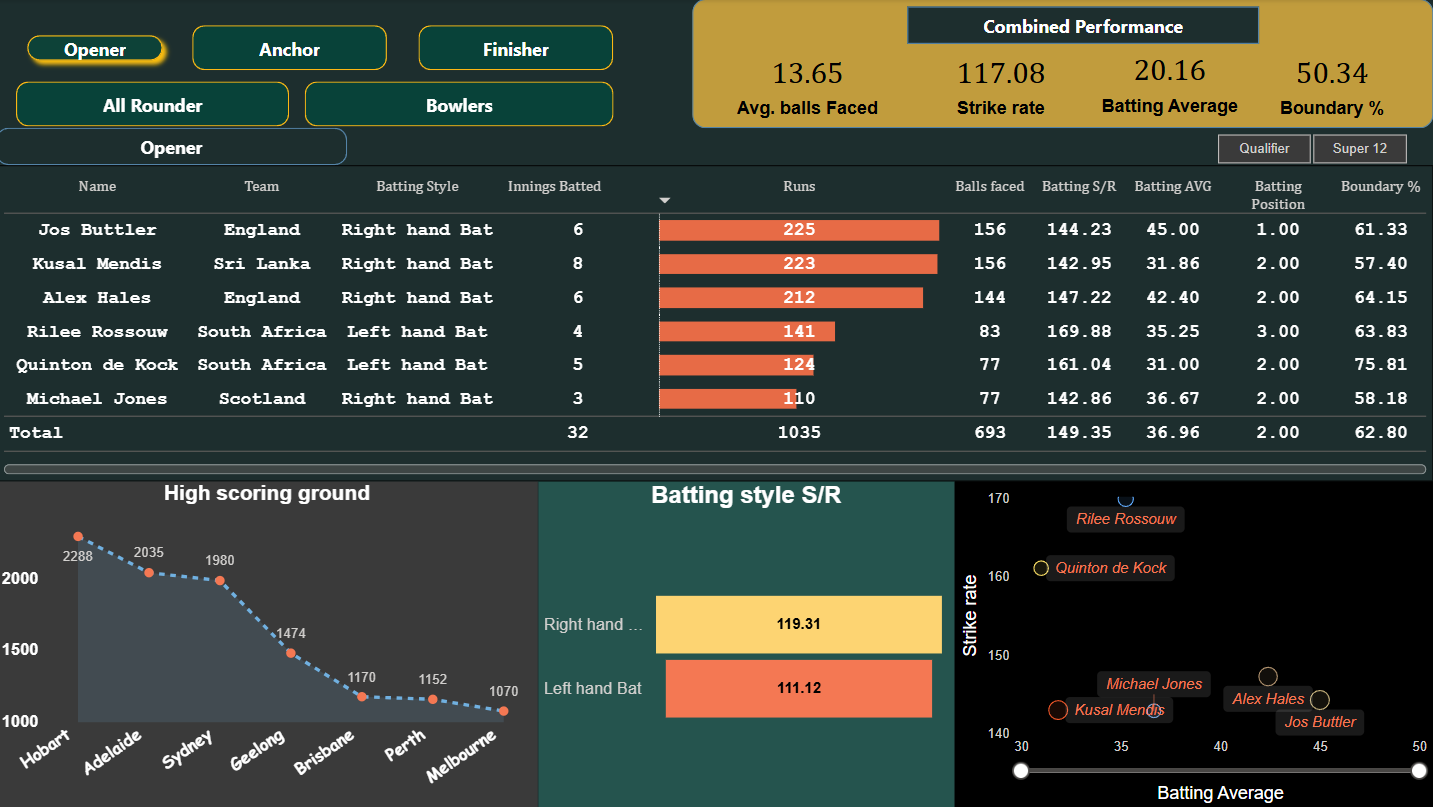

What the dashboard file says about the page in this screenshot:
{"tool":"powerbi","page":{"name":"Opener","canvas":[1280,720],"ordinal":0},"visuals":[{"type":"shape","box":[620,0,660,115],"z":0},{"type":"scatterChart","fields":{"Category":["dim_players.name"],"X":["Key_measures.Batting Average"],"Y":["Key_measures.Strike rate"],"Series":["dim_players.name"],"Size":["Key_measures.Total runs"]},"box":[853.3,429.7,427.2,290.6],"z":1000},{"type":"cardVisual","fields":{"Data":["Key_measures.Batting Average"]},"box":[966.7,38.3,158.3,75],"z":2000},{"type":"cardVisual","fields":{"Data":["Key_measures.Boundary %"]},"box":[1100,40,180,75],"z":3000},{"type":"cardVisual","fields":{"Data":["Key_measures.Strike rate"]},"box":[805,40,180,75],"z":4000},{"type":"cardVisual","fields":{"Data":["Key_measures.Avg. balls Faced"]},"box":[640,40,165,75],"z":5000},{"type":"slicer","fields":{"Values":["dim_match_summary.Stage"]},"box":[1061.7,113.3,218.3,38.3],"z":6000},{"type":"tableEx","fields":{"Values":["dim_players.name","dim_players.team","dim_players.battingStyle","Key_measures.Total Innings Batted","Key_measures.Total runs","Key_measures.Total balls faced","Key_measures.Strike rate","Key_measures.Batting Average","Key_measures.Batting Position","Key_measures.Boundary %"]},"box":[0,148.3,1280,281.7],"z":7000},{"type":"shape","box":[0,114.5,312.7,33.2],"z":8000},{"type":"lineChart","title":"High scoring ground","fields":{"Category":["dim_match_summary.ground"],"Y":["Key_measures.Total runs"]},"box":[0,429.7,482.7,290.6],"z":9000},{"type":"shape","box":[811.7,6.7,313.3,33.3],"z":10000},{"type":"funnel","title":"Batting style S/R","fields":{"Category":["dim_players.battingStyle"],"Y":["Key_measures.Strike rate"]},"box":[483.3,430,370,290],"z":11000},{"type":"shape","box":[18.4,23.3,138.7,40.5],"z":13000},{"type":"shape","box":[175,23.3,173.3,40],"z":14000},{"type":"shape","box":[376.7,23.3,173.3,40],"z":15000},{"type":"shape","box":[18.3,73.3,243.3,40],"z":16000},{"type":"shape","box":[275,73.3,275,40],"z":17000}]}

Visuals, with their boxes in screenshot pixels (x1, y1, x2, y2), scaled from the page's 1280x720 canvas onto the 1433x807 screenshot:
shape: region(694, 0, 1432, 129)
scatterChart - dim_players.name x Key_measures.Batting Average: region(955, 482, 1432, 806)
cardVisual - Key_measures.Batting Average: region(1082, 43, 1259, 127)
cardVisual - Key_measures.Boundary %: region(1231, 45, 1432, 129)
cardVisual - Key_measures.Strike rate: region(901, 45, 1103, 129)
cardVisual - Key_measures.Avg. balls Faced: region(716, 45, 901, 129)
slicer - dim_match_summary.Stage: region(1189, 127, 1432, 170)
tableEx - dim_players.name x dim_players.team: region(0, 166, 1432, 482)
shape: region(0, 128, 350, 166)
"High scoring ground" lineChart: region(0, 482, 540, 806)
shape: region(909, 8, 1259, 45)
"Batting style S/R" funnel: region(541, 482, 955, 806)
shape: region(21, 26, 176, 72)
shape: region(196, 26, 390, 71)
shape: region(422, 26, 616, 71)
shape: region(20, 82, 293, 127)
shape: region(308, 82, 616, 127)
